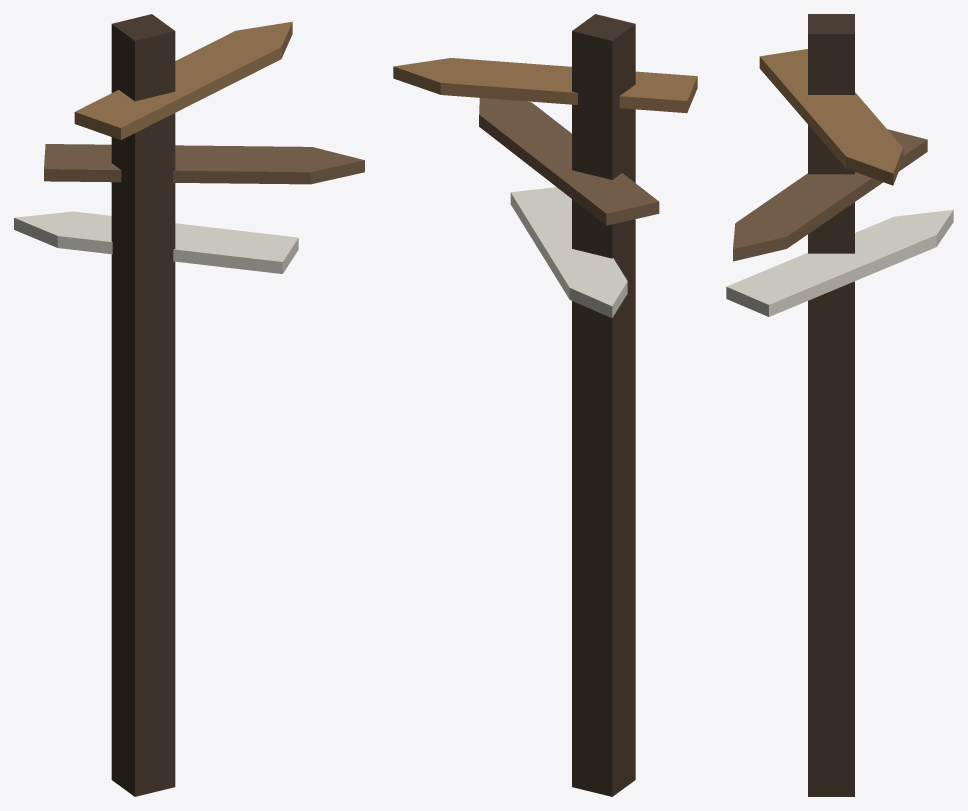
Rendered from signpost.glb.
3 views of the same model, side by side, from view 1: azimuth 30°, elevation 25°; view 2: azimuth 150°, elevation 25°; view 3: azimuth 270°, elevation 25° (orthographic).
Visible parts, largest first — view 1: signpost; view 2: signpost; view 3: signpost.
Part boxes in pixels (box(x1,y1,x2,y2)): signpost: box(14, 14, 364, 796); signpost: box(393, 14, 697, 796); signpost: box(726, 14, 953, 796).
Size of what is drawn, in the model's own units: 0.8906 by 2.5 by 0.6751.
Materials: 1 (1 with a texture image).
